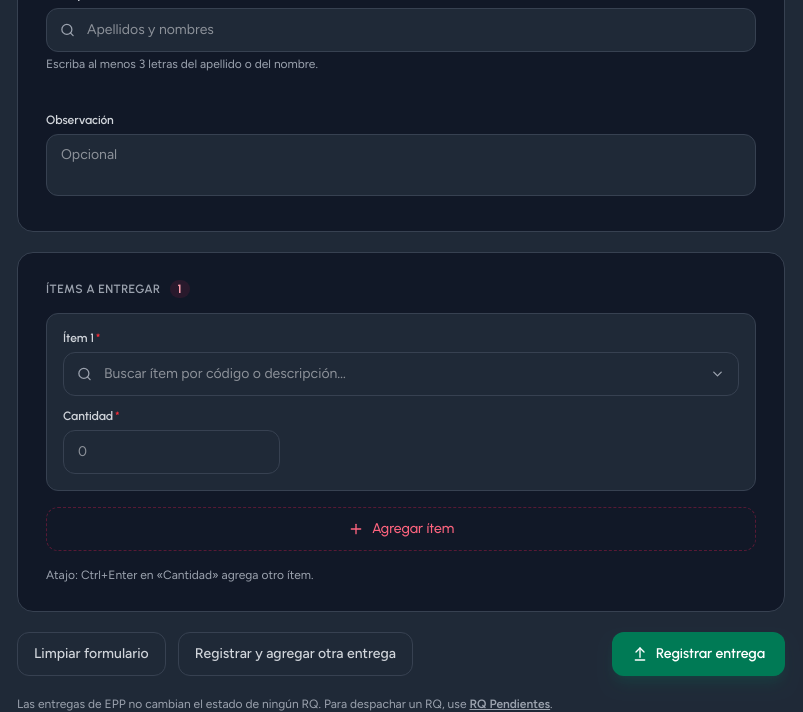
Test: SalidaPage — entrega de EPP › exige el trabajador
(page scrolled)
Click the dropdown labelled "Ítem 1*".
click(401, 374)  # box x1=63 y1=352 x2=739 y2=396
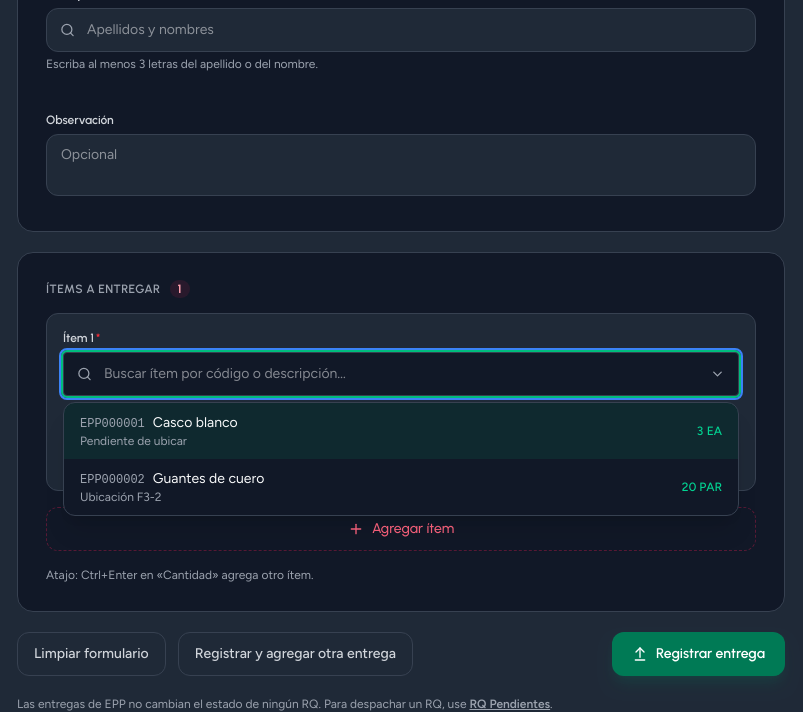
Click the option "EPP000001Casco blanco Pendiente de ubicar 3 EA".
click(112, 424)  # box x1=64 y1=403 x2=738 y2=459
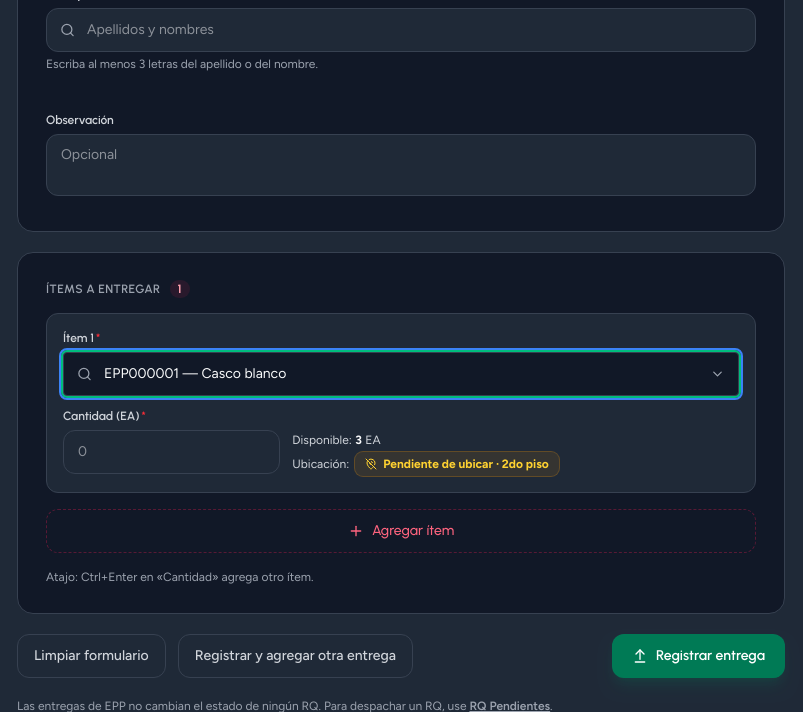
Type "1" into the field labelled "Cantidad (EA)*".
click(172, 452); type("1")  # box x1=63 y1=430 x2=280 y2=474
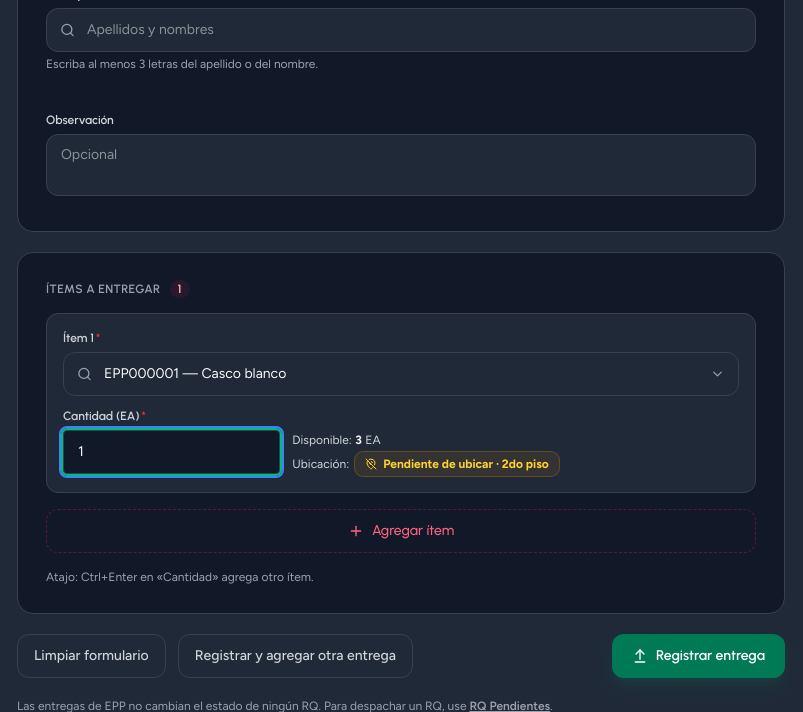
Click the button "Registrar entrega".
click(699, 656)  # box x1=612 y1=634 x2=785 y2=678
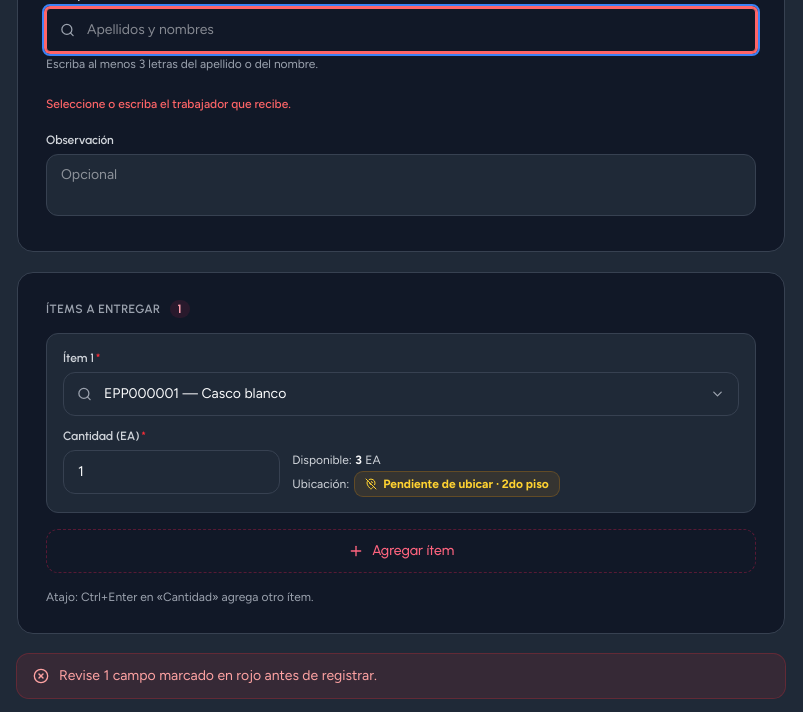
Expected: the text "Seleccione o escriba el trabajador que recibe." is shown, x1=46 y1=97 x2=291 y2=111
